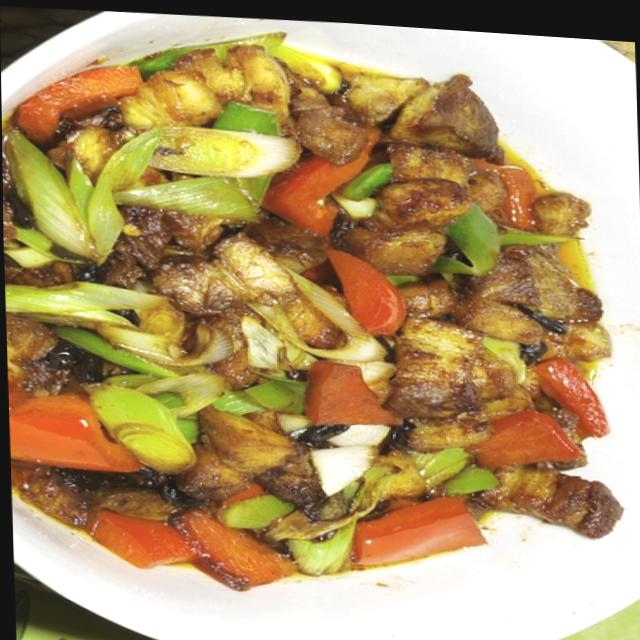猪肉菜式: (0, 4, 612, 621)
